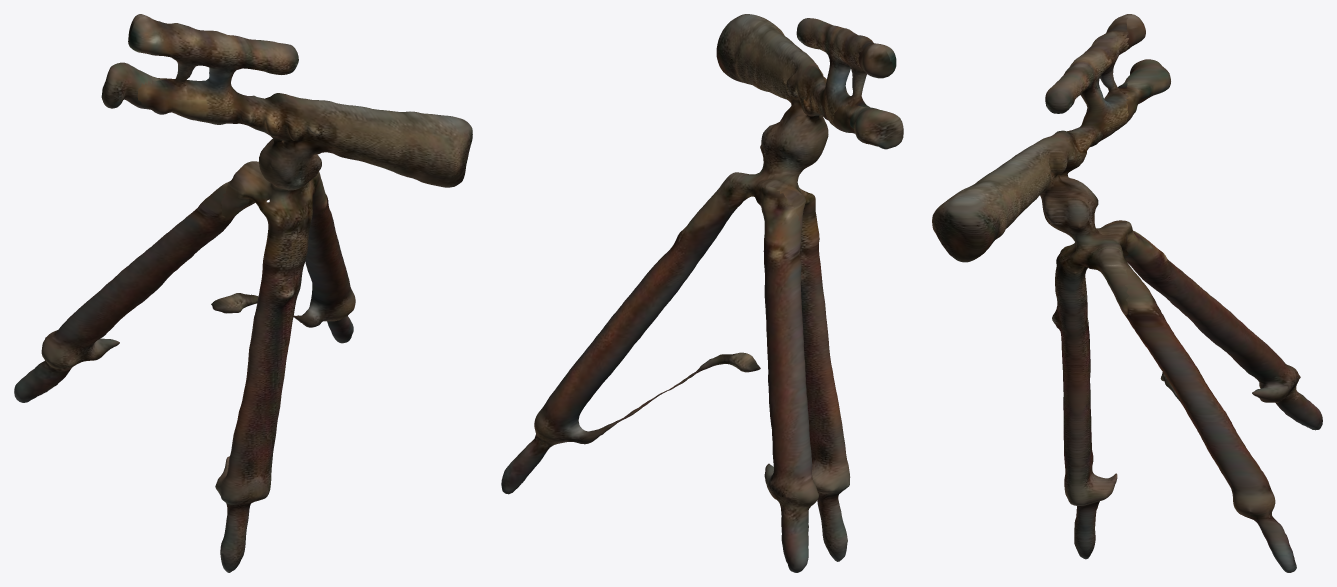
File: kfl-2307.glb
3 views of the same model, side by side, from view 1: azimuth 30°, elevation 25°; view 2: azimuth 150°, elevation 25°; view 3: azimuth 270°, elevation 25° (orthographic). The views are drawn at different scales.
Parts seen in each view (by area): view 1: geometry_0; view 2: geometry_0; view 3: geometry_0.
Part boxes in pixels (box(x1,y1,x2,y2)): geometry_0: box(14, 14, 472, 572); geometry_0: box(501, 14, 903, 572); geometry_0: box(932, 14, 1322, 572).
Size of the model in its own units: 0.6066 by 0.9905 by 0.6805.
Materials: 1 (1 with a texture image).
